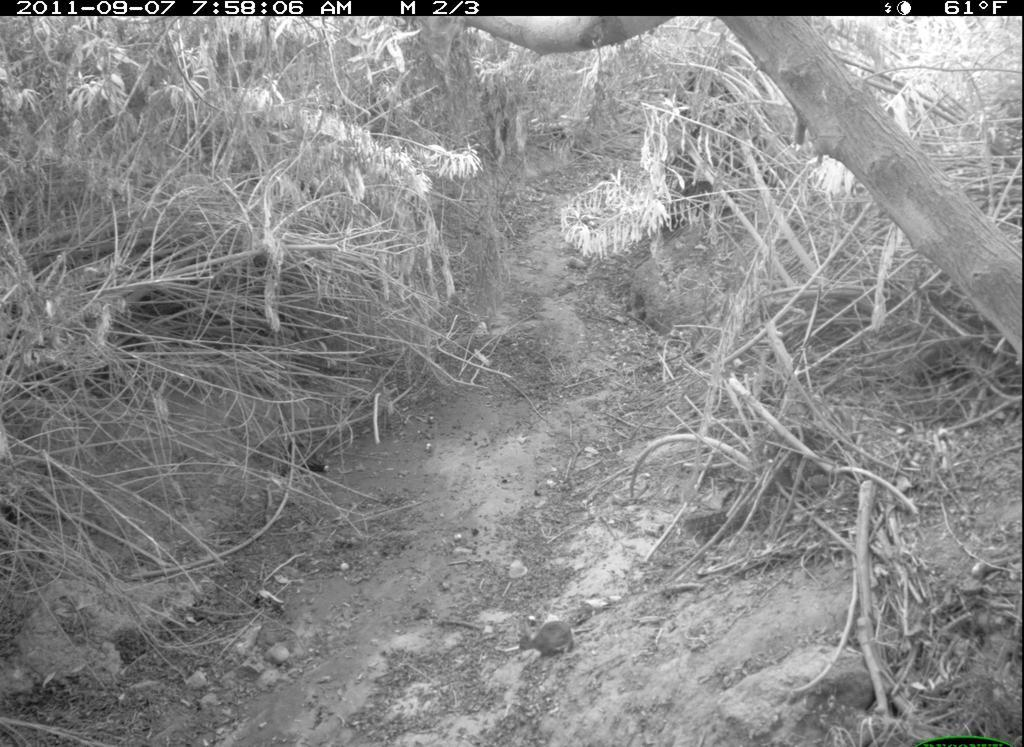rabbit: (514, 615, 593, 666)
